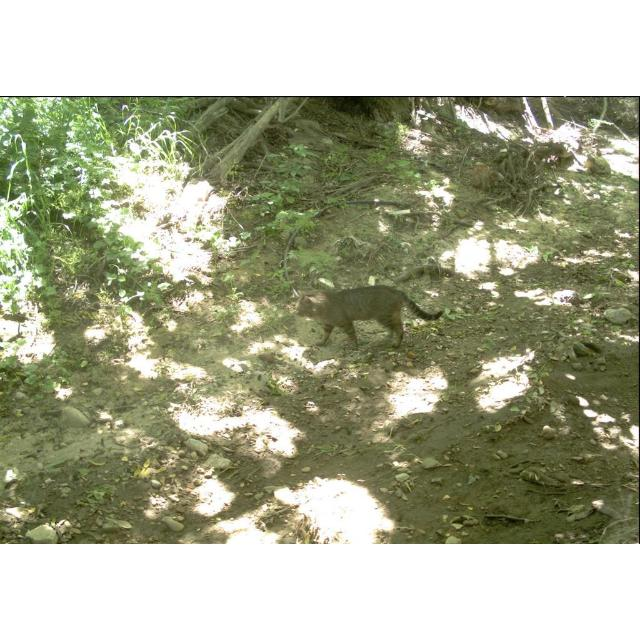animals: (298, 286, 450, 354)
